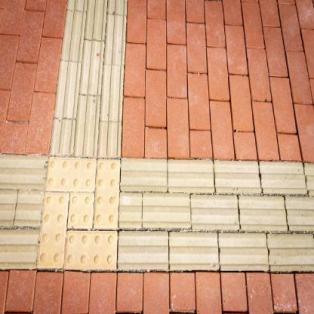Podoctatil: (0, 0, 314, 271)
